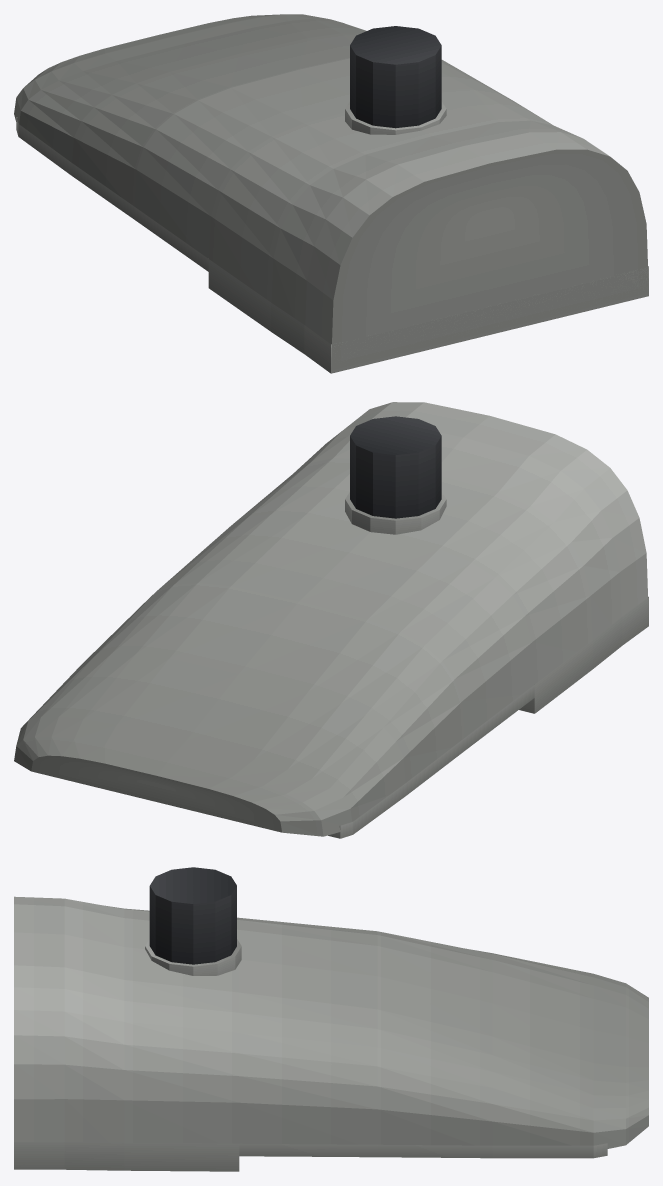
Rendered from streetlight_creexsp.obj.
3 renders of one model, top to bottom at view 1: azimuth 30°, elevation 25°; view 2: azimuth 150°, elevation 25°; view 3: azimuth 270°, elevation 25°, orthographic. The views are drawn at different scales.
Visible parts, largest first — view 1: fixture; view 2: fixture; view 3: fixture.
Part boxes in pixels (x1=…): fixture: x1=14, y1=14, x2=648, y2=373; fixture: x1=14, y1=402, x2=648, y2=838; fixture: x1=14, y1=867, x2=648, y2=1171.
Size of the model in its own units: 0.5 by 0.315 by 0.8625.
